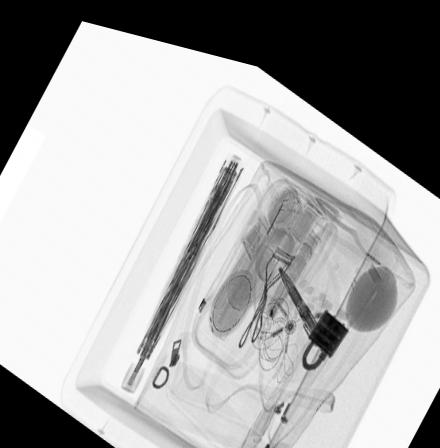Knife: (278, 251, 319, 319)
